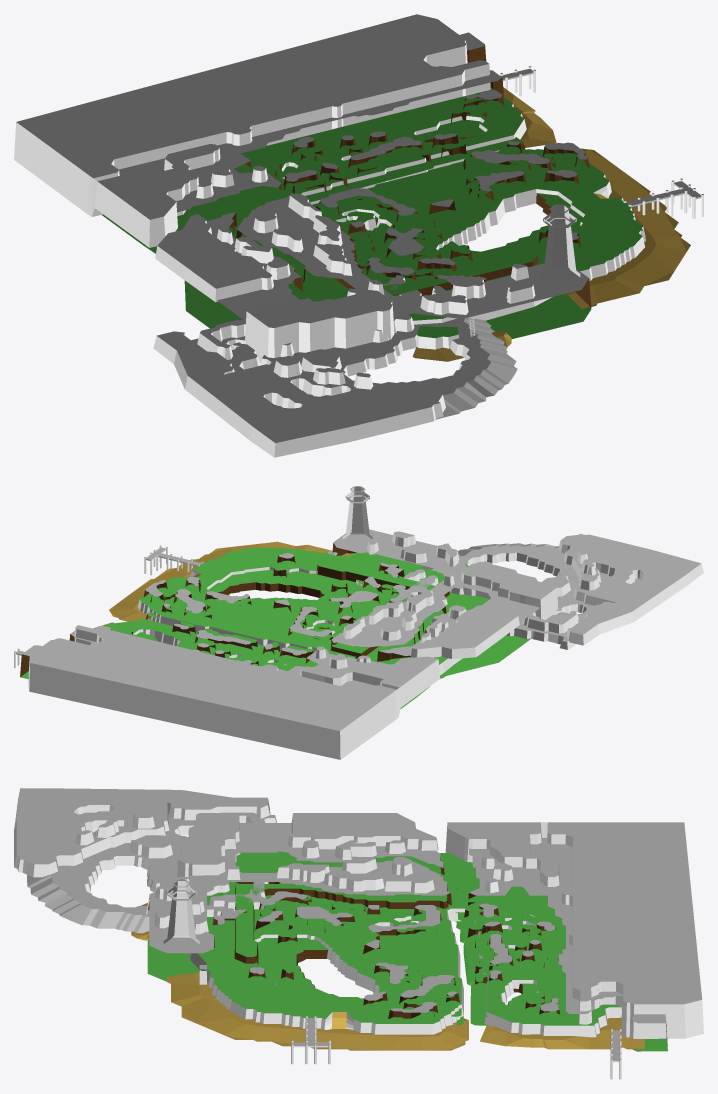
Rendered from new_old_mapc.glb.
3 renders of one model, top to bottom at view 1: azimuth 30°, elevation 25°; view 2: azimuth 150°, elevation 25°; view 3: azimuth 270°, elevation 25°, orthographic. The views are drawn at different scales.
Parts seen in each view (by area): view 1: expanded_main, main001, Plane, lighthouse, docks; view 2: expanded_main, main001, Plane, lighthouse, docks; view 3: expanded_main, main001, Plane, lighthouse, docks.
Part boxes in pixels (<box>): expanded_main: <box>14,14,690,361</box>; main001: <box>153,275,517,457</box>; Plane: <box>232,93,583,295</box>; lighthouse: <box>539,204,580,284</box>; docks: <box>500,66,703,218</box>; expanded_main: <box>20,529,558,759</box>; main001: <box>404,534,703,649</box>; Plane: <box>119,561,449,670</box>; lighthouse: <box>343,486,372,544</box>; docks: <box>14,545,203,668</box>; expanded_main: <box>131,813,703,1051</box>; main001: <box>14,788,277,933</box>; Plane: <box>234,884,565,1025</box>; lighthouse: <box>163,879,199,944</box>; docks: <box>291,1016,621,1079</box>.
Size of the model in its own units: 170 by 32.1 by 192.
